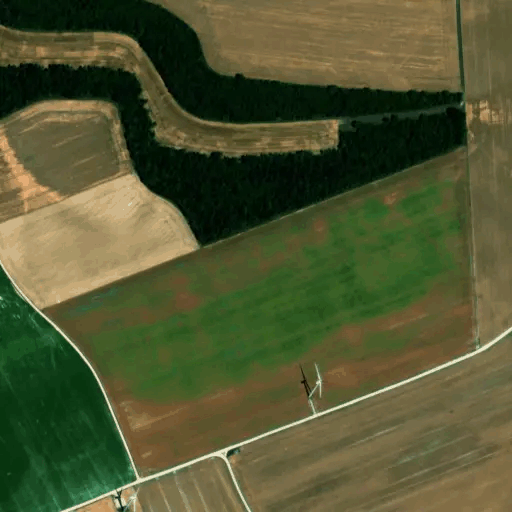wt: (299, 360, 326, 407), (110, 484, 146, 512)
